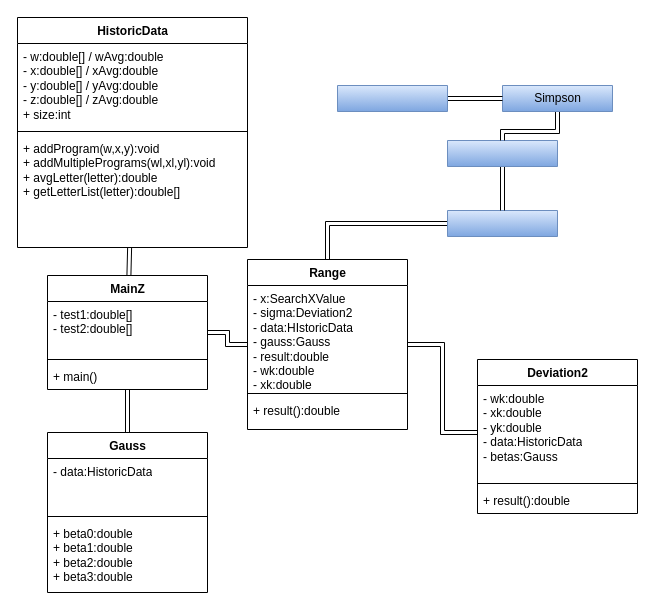
Some shapes in this 655 by 613 pixel diagram are drawn without their labels. The shapes that lost their labels are listed below. From the top down, each one's centre as x and y in pixels, then its label:
the point at 392,98: TDistribution
the point at 502,153: CalculationP
the point at 502,223: SearchXValue
